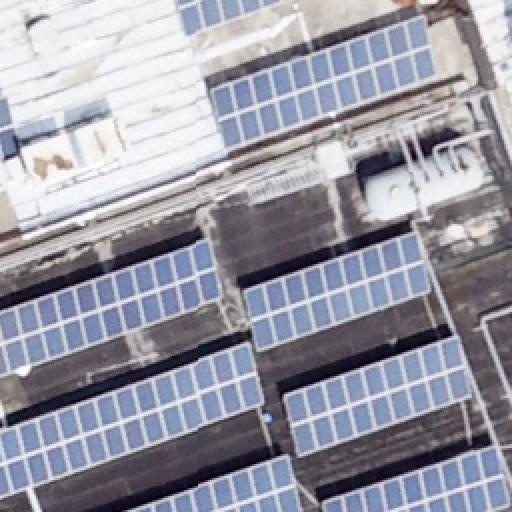solar-panel: (0, 341, 264, 499), (211, 15, 437, 153), (1, 239, 223, 377), (283, 335, 477, 457), (241, 231, 431, 353), (322, 444, 510, 512), (122, 452, 306, 512), (177, 0, 287, 36), (1, 96, 23, 164)
